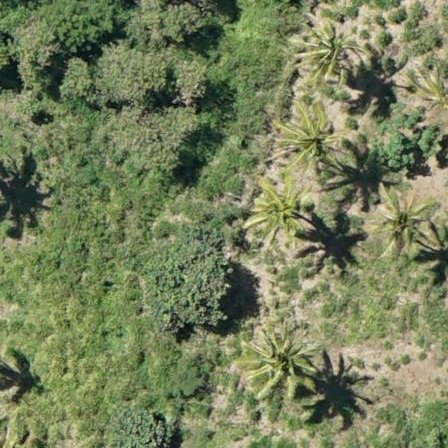palm_tree: (270, 99, 344, 178), (292, 9, 365, 87), (238, 328, 311, 394), (372, 193, 429, 251), (249, 183, 308, 239)
